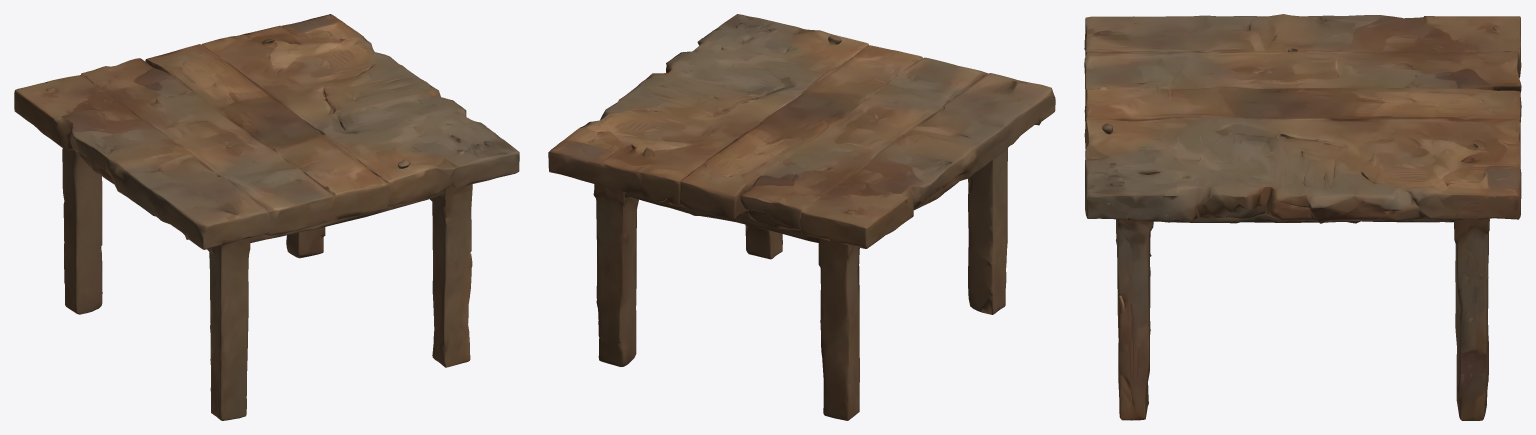
Rendered from table.glb.
3 views of the same model, side by side, from view 1: azimuth 30°, elevation 25°; view 2: azimuth 150°, elevation 25°; view 3: azimuth 270°, elevation 25° (orthographic). The views are drawn at different scales.
Parts seen in each view (by area): view 1: tripo_node_ed473b66-3d13-4120-9119-752709dbe585; view 2: tripo_node_ed473b66-3d13-4120-9119-752709dbe585; view 3: tripo_node_ed473b66-3d13-4120-9119-752709dbe585.
Part boxes in pixels (x1,y1,x2,y2): tripo_node_ed473b66-3d13-4120-9119-752709dbe585: [14, 14, 519, 420]; tripo_node_ed473b66-3d13-4120-9119-752709dbe585: [548, 14, 1055, 420]; tripo_node_ed473b66-3d13-4120-9119-752709dbe585: [1084, 14, 1521, 420].
Bounding box in the file's own units: 0.9937 × 0.6486 × 1.
Materials: 1 (1 with a texture image).
